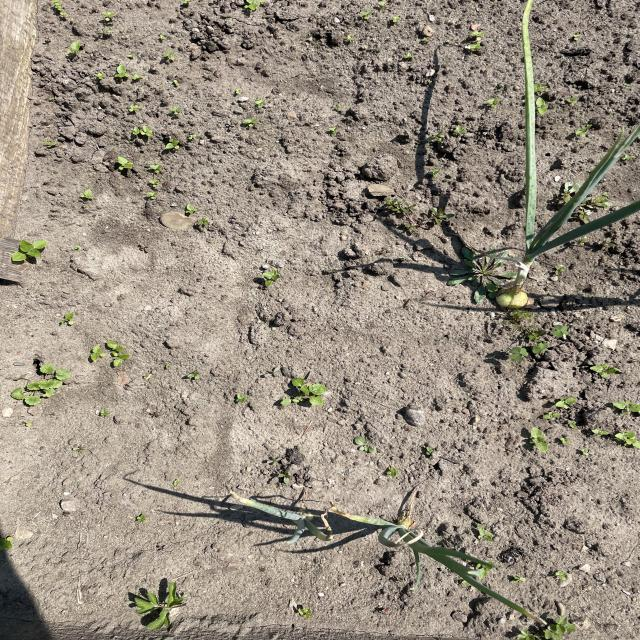Onion: (491, 40, 640, 310), (346, 496, 487, 594), (227, 484, 344, 549)
weed: (516, 385, 640, 456), (508, 319, 576, 369), (11, 362, 73, 415), (134, 580, 190, 633), (275, 374, 339, 412), (84, 334, 138, 375), (0, 234, 56, 266), (252, 267, 283, 293)
